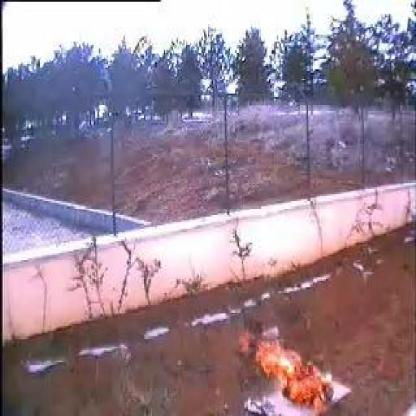-: (260, 298, 274, 329)
foggia-v2-map80-epoch100 - v1 4323: (239, 330, 334, 414)
